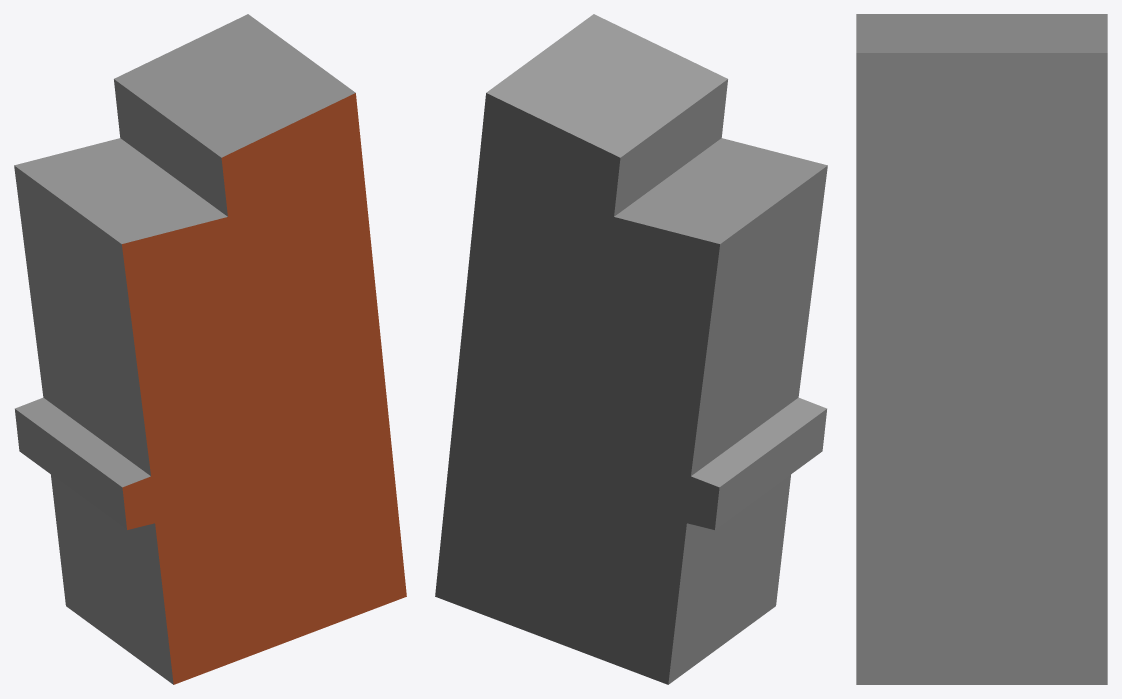
Rendered from construction_5751_assumed_A_Casa_h6m.obj.
3 renders of one model, left to right at view 1: azimuth 30°, elevation 25°; view 2: azimuth 150°, elevation 25°; view 3: azimuth 270°, elevation 25°, orthographic. The views are drawn at different scales.
Parts seen in each view (by area): view 1: construction_5751_assumed_A_Casa; view 2: construction_5751_assumed_A_Casa; view 3: construction_5751_assumed_A_Casa.
Boxes of the visible parts, x1=… form: construction_5751_assumed_A_Casa: x1=14, y1=14, x2=406, y2=684; construction_5751_assumed_A_Casa: x1=435, y1=14, x2=827, y2=684; construction_5751_assumed_A_Casa: x1=856, y1=14, x2=1107, y2=684.
Size of the model in its own units: 9.17 by 16.83 by 6.
